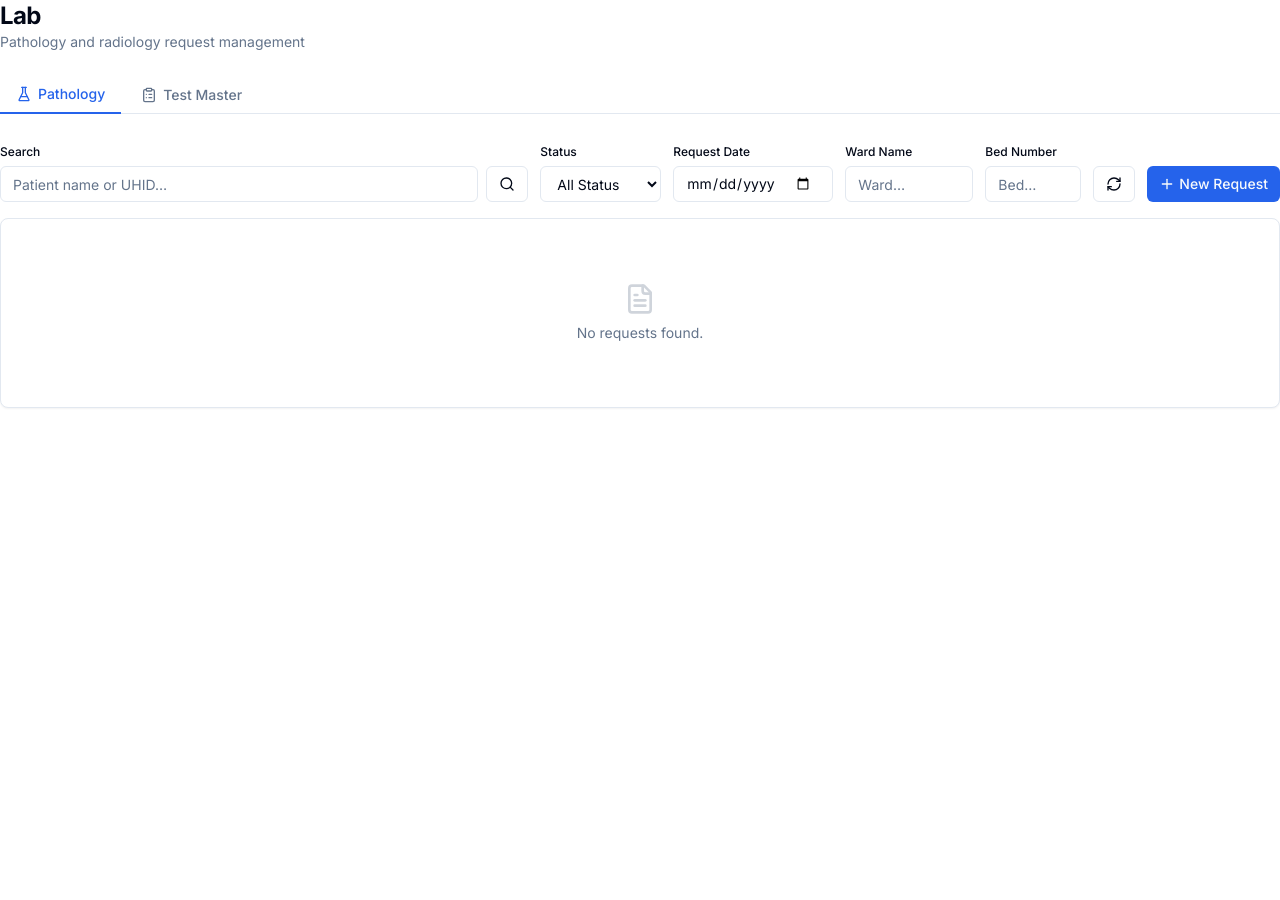
Lab → Test Master tab › the Please Correlate Clinically text is required
Click the button "Test Master". click: x=192, y=94
box: [125,76,258,113]
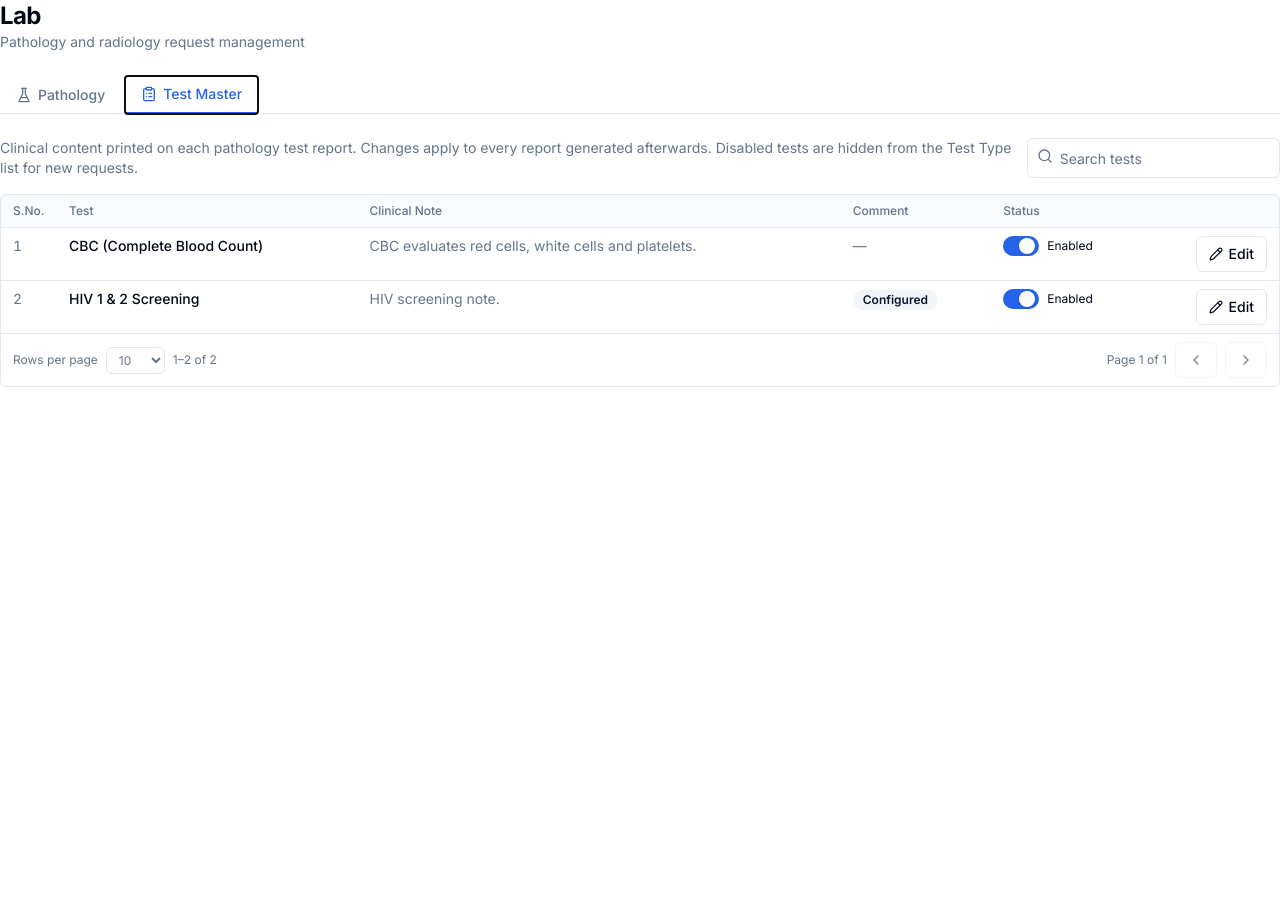
Click the button with aria-label "Edit CBC (Complete Blood Count)". click: x=1231, y=254
box: [1196,236,1267,272]
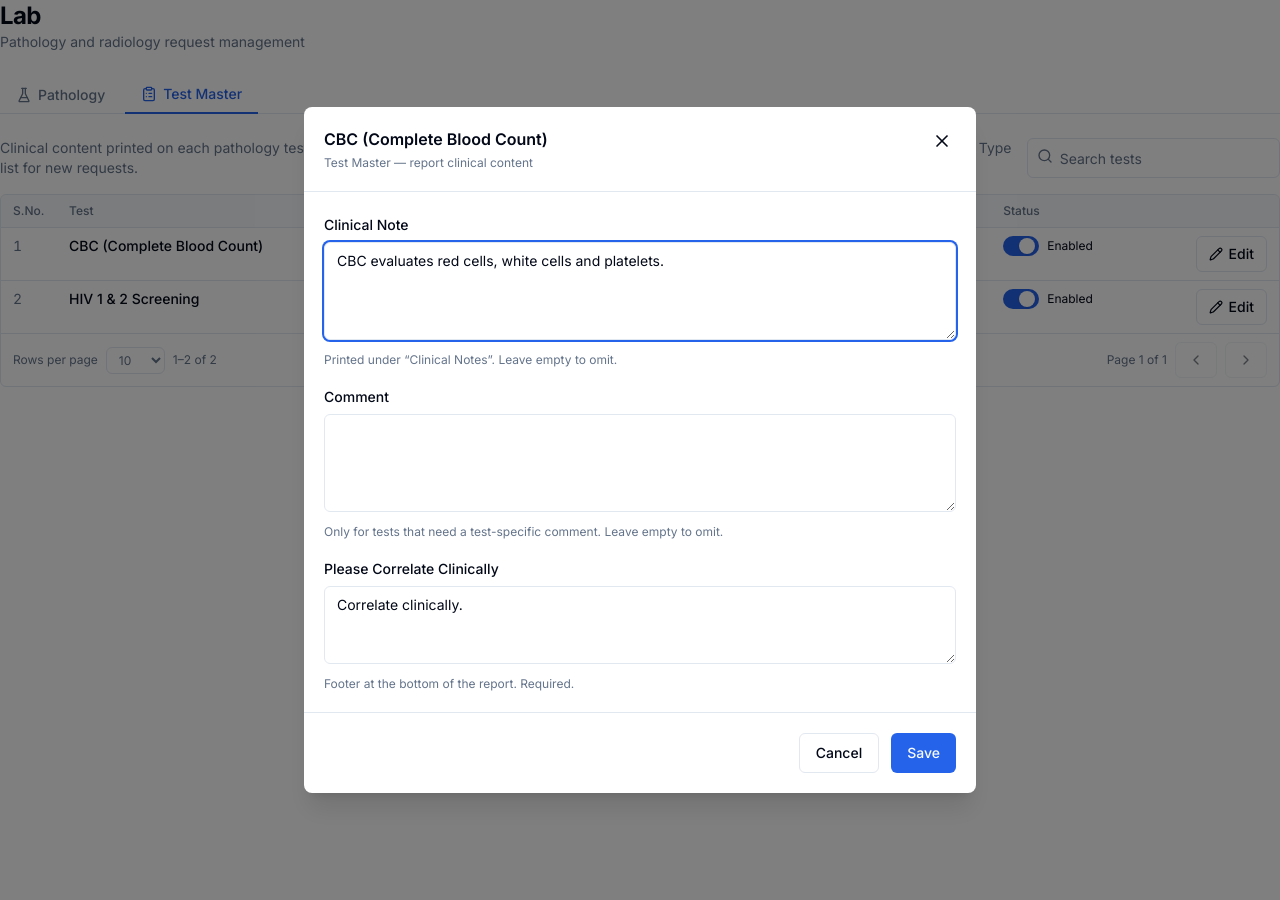
Clear the text box labelled "Please Correlate Clinically". click: x=640, y=625
box: [324,586,956,664]
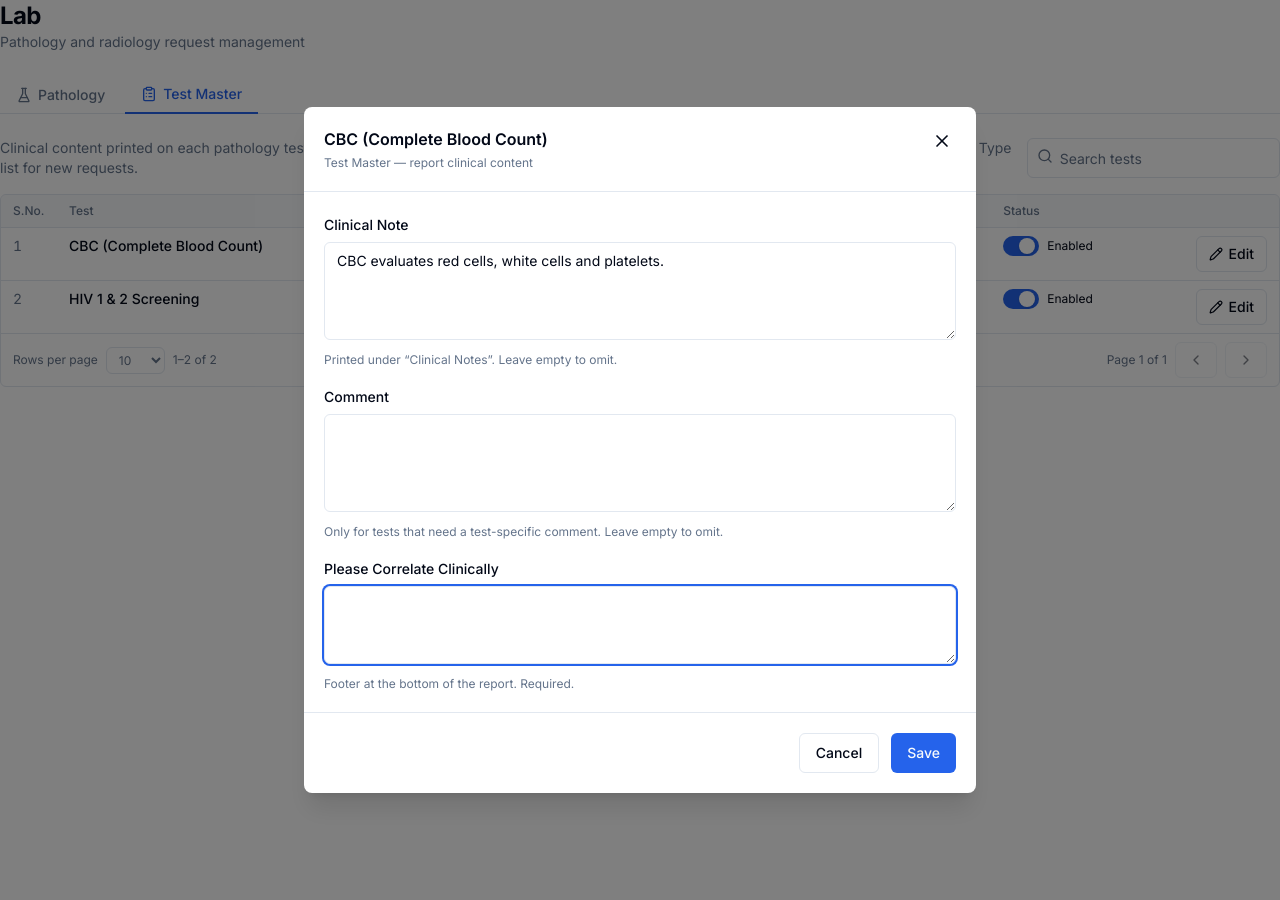
Click the button "Save". click: x=924, y=753
box: [891,733,956,773]
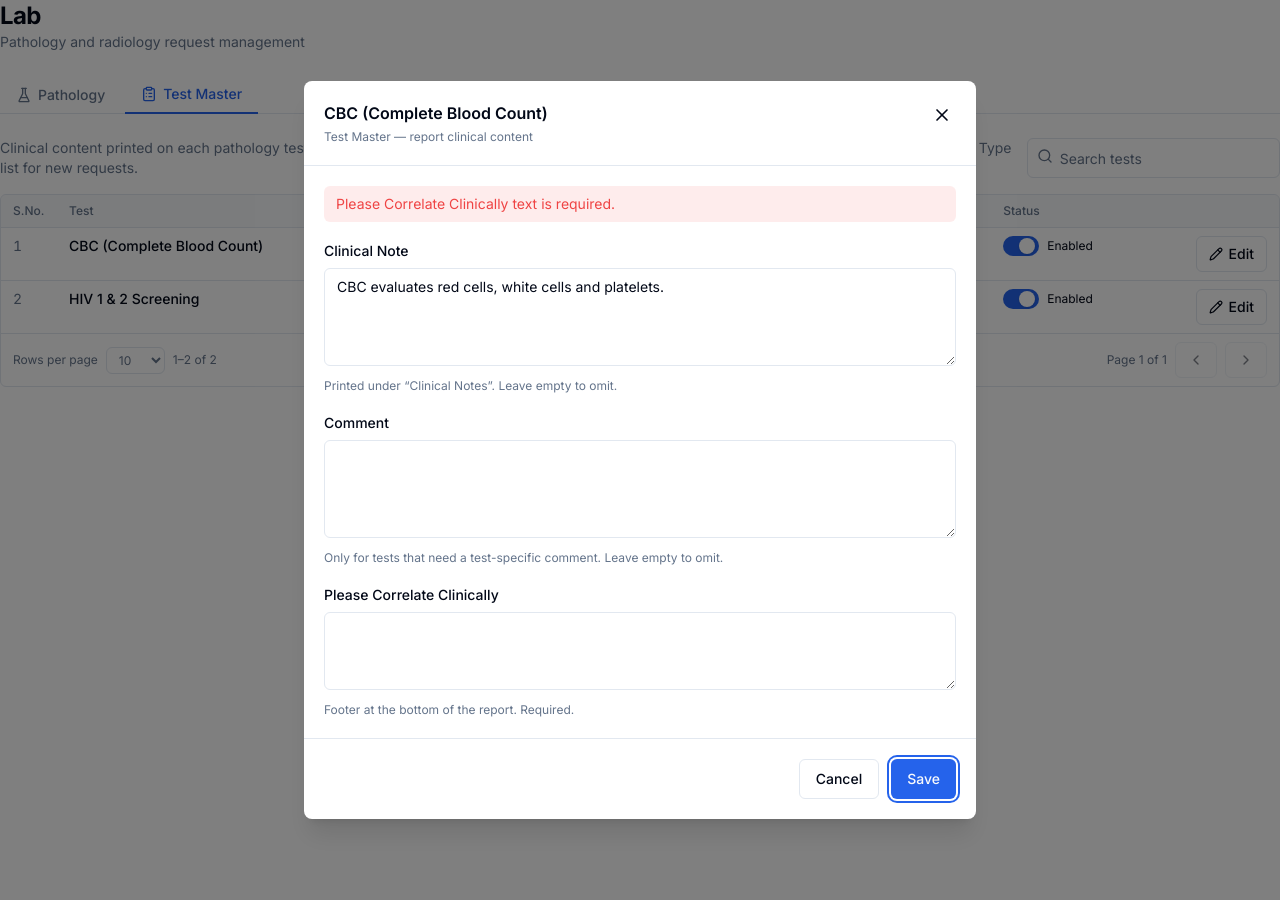
Check: the text "Please Correlate Clinically text is required." is shown, box [324,186,956,222]
